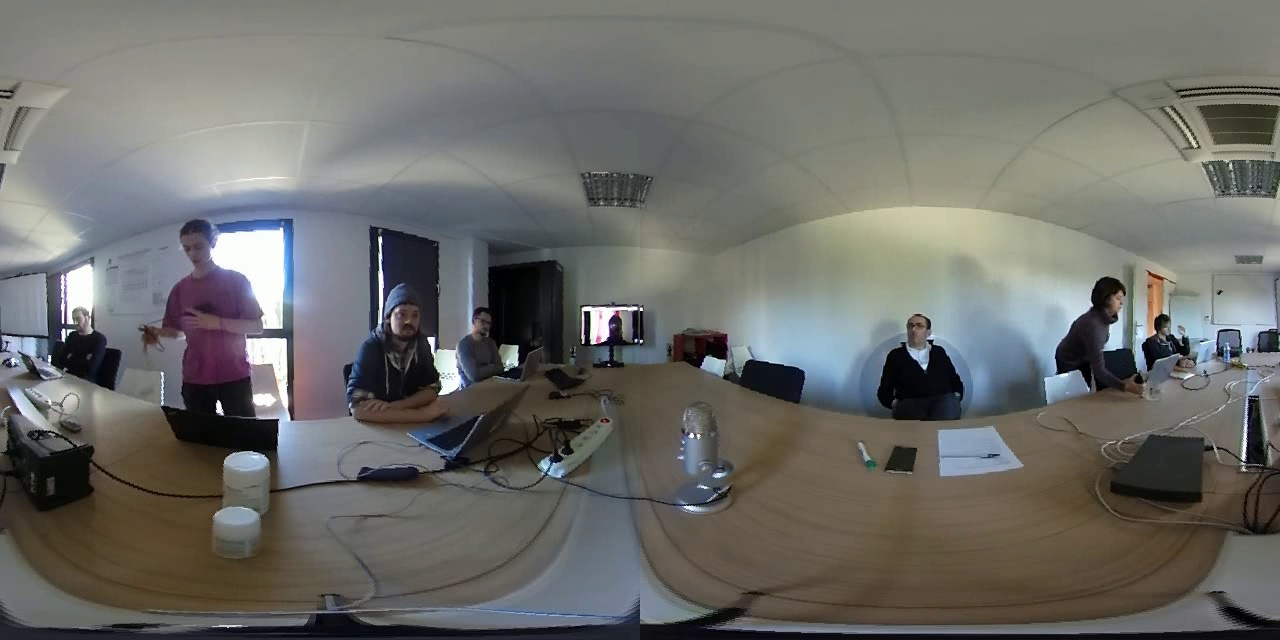person: (129, 210, 276, 412), (340, 271, 444, 413), (1052, 249, 1134, 401), (864, 295, 962, 410), (447, 301, 523, 383), (43, 300, 111, 383), (1138, 298, 1191, 367), (582, 301, 647, 344)
